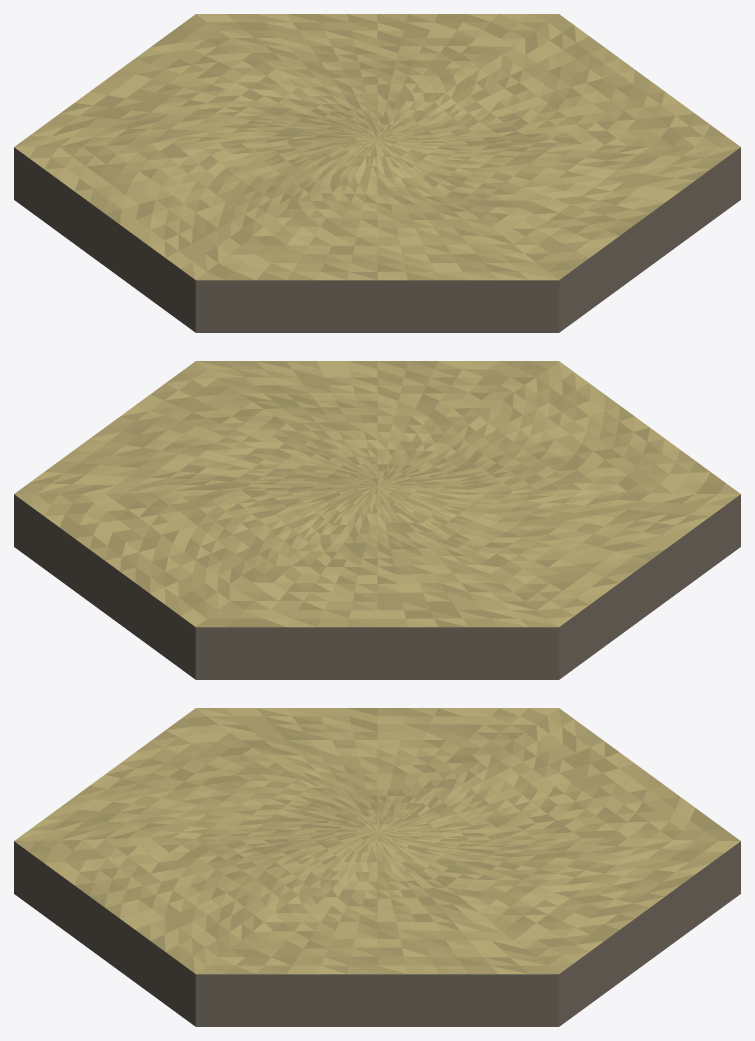
File: TERRAIN_PLAINS_v02.fbx
3 views of the same model, one above another, from view 1: azimuth 30°, elevation 25°; view 2: azimuth 150°, elevation 25°; view 3: azimuth 270°, elevation 25° (orthographic).
Visible parts, largest first — view 1: TERRAIN_PLAINS_v02; view 2: TERRAIN_PLAINS_v02; view 3: TERRAIN_PLAINS_v02.
Boxes of the visible parts, bbox=[...] form: TERRAIN_PLAINS_v02: bbox=[14, 14, 740, 332]; TERRAIN_PLAINS_v02: bbox=[14, 361, 740, 679]; TERRAIN_PLAINS_v02: bbox=[14, 708, 740, 1026].
Bounding box in the file's own units: 173 × 18.58 × 200.
